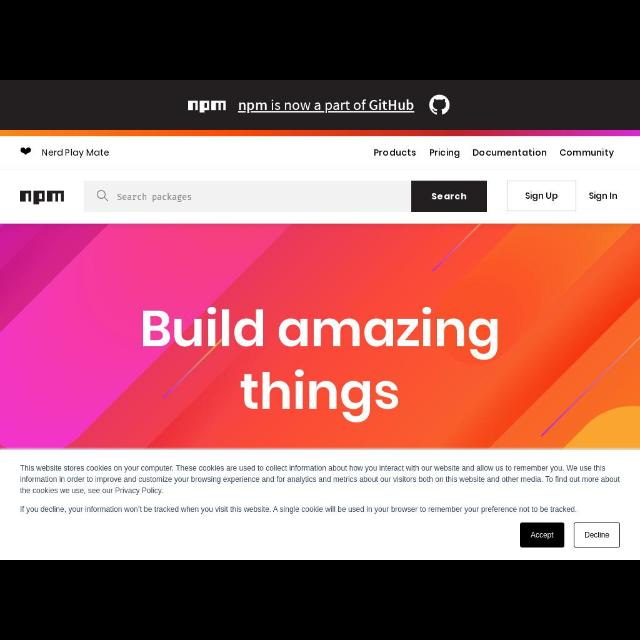icon: (96, 190, 110, 202), (21, 148, 31, 154)
image: (20, 189, 64, 205), (186, 100, 226, 112), (428, 94, 448, 116)
input: (84, 180, 412, 212)
text: (21, 464, 622, 496), (144, 311, 498, 361), (240, 368, 398, 426), (20, 506, 578, 514), (239, 100, 413, 112), (116, 193, 192, 203), (472, 149, 546, 159), (373, 146, 415, 158), (560, 150, 614, 158), (41, 150, 109, 156), (525, 192, 559, 202), (429, 149, 461, 159), (588, 192, 618, 202), (429, 193, 466, 201), (584, 530, 612, 540), (530, 531, 556, 539)
textbutton: (412, 180, 488, 212), (508, 182, 576, 210), (574, 522, 620, 548), (520, 524, 566, 548)
